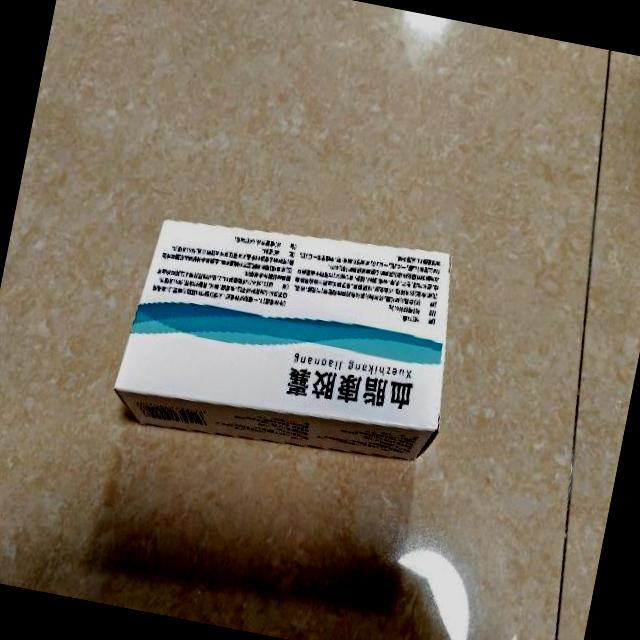box: (106, 194, 474, 481)
